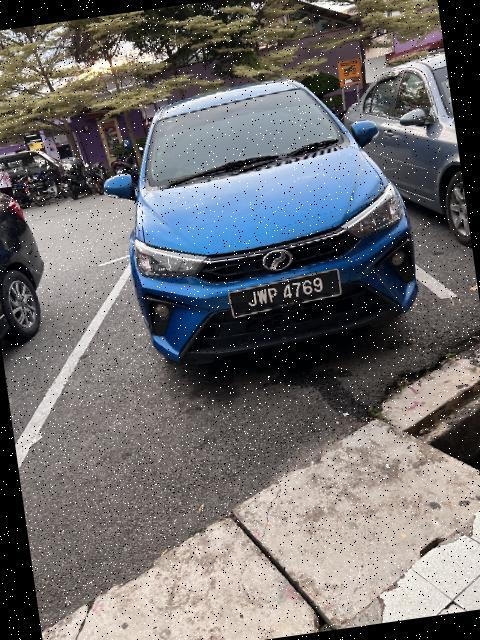JWP4769: (225, 268, 346, 324)
License_Plate: (225, 268, 346, 324)
car: (82, 61, 428, 376)
